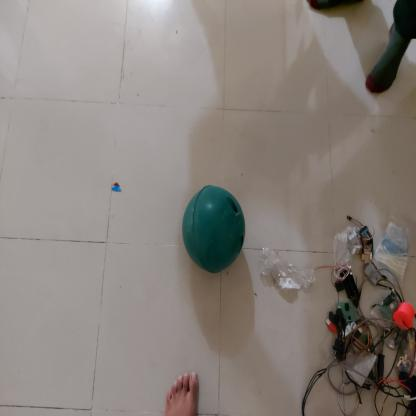green_buoy: (180, 184, 248, 277)
